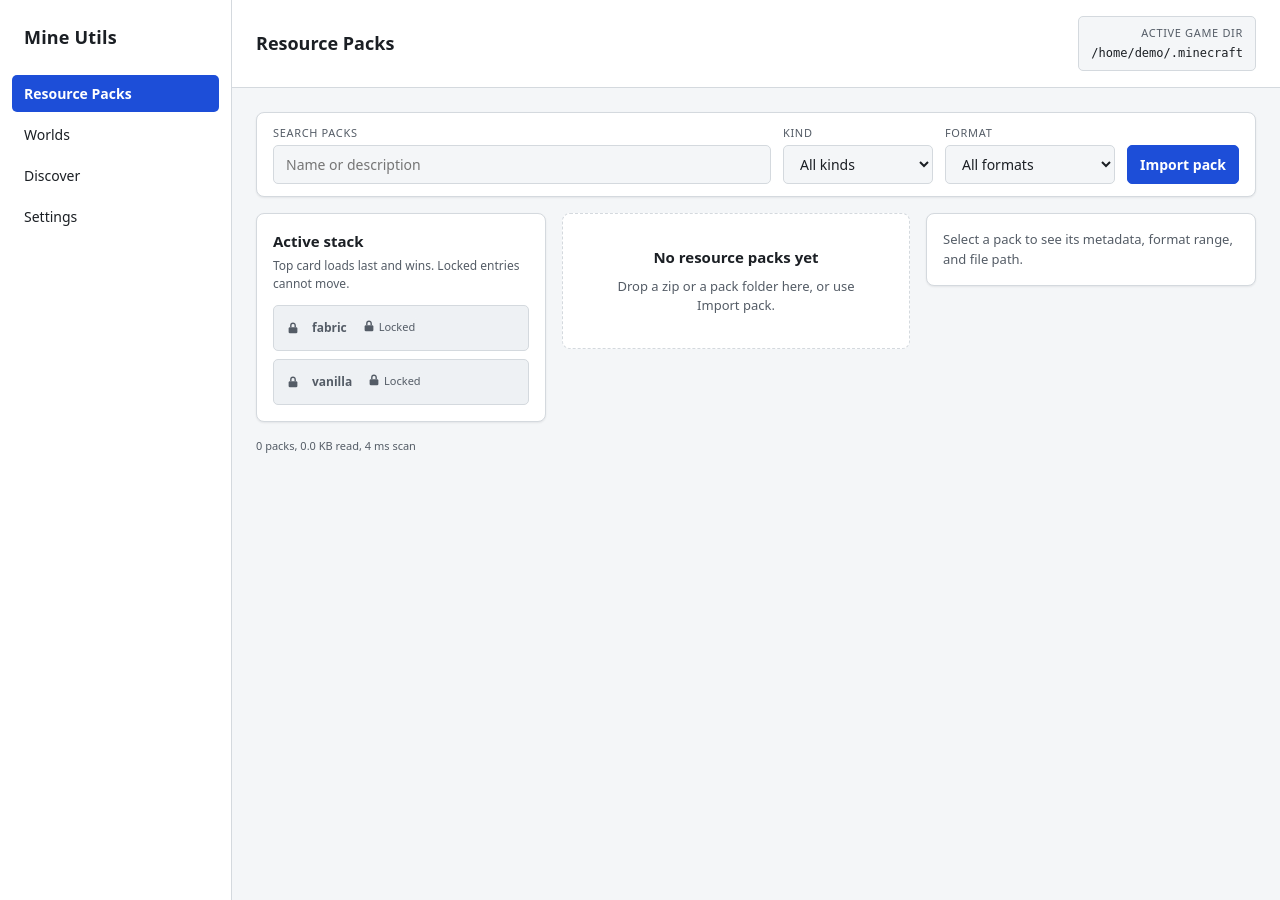
shows loading rather than an empty world list in the install sheet
The width and height of the screenshot is (1280, 900).
Step 1. Click the button "Discover" → click(116, 176), box x1=12 y1=157 x2=219 y2=194
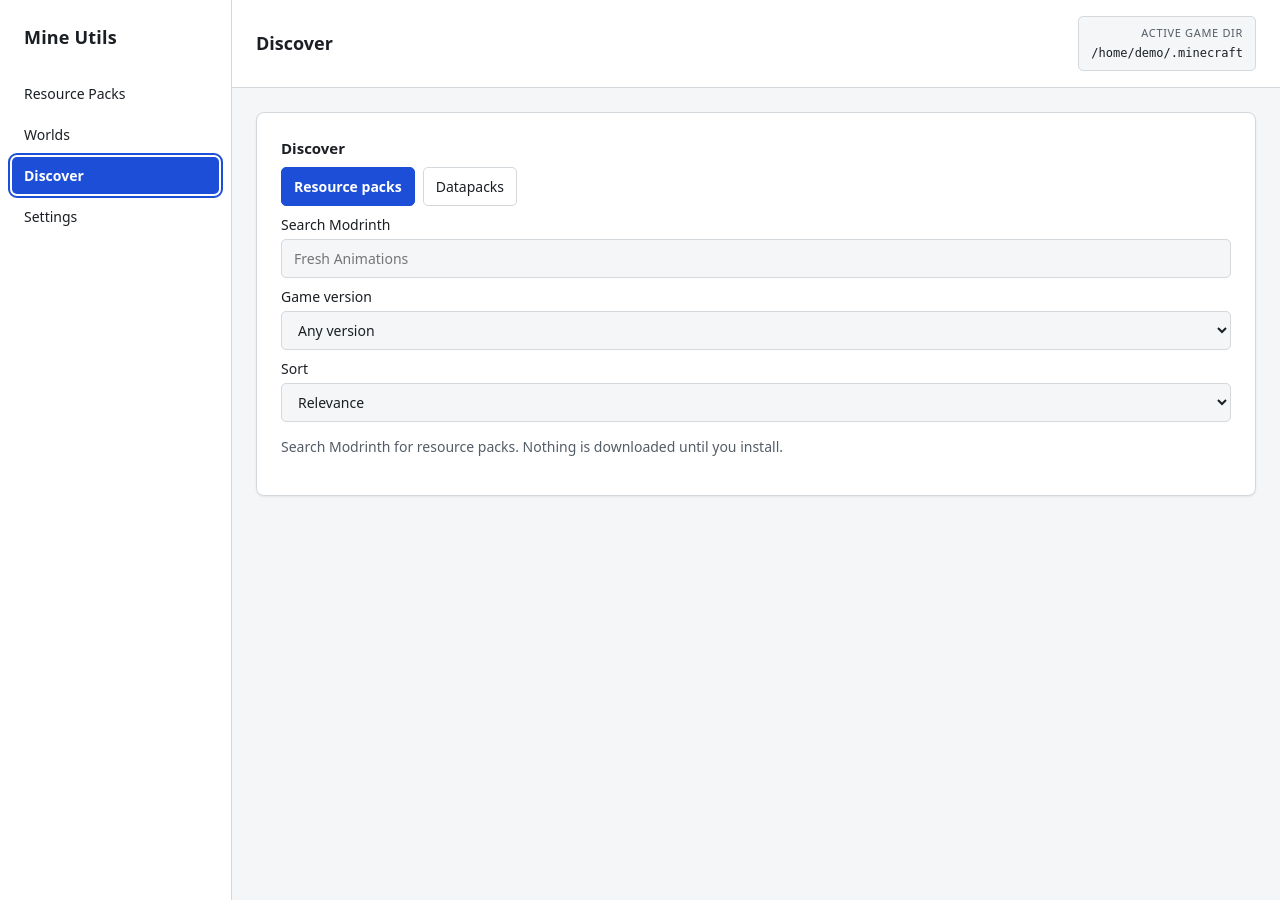
Step 2. Click the tab "Datapacks" → click(470, 186), box x1=423 y1=167 x2=517 y2=206
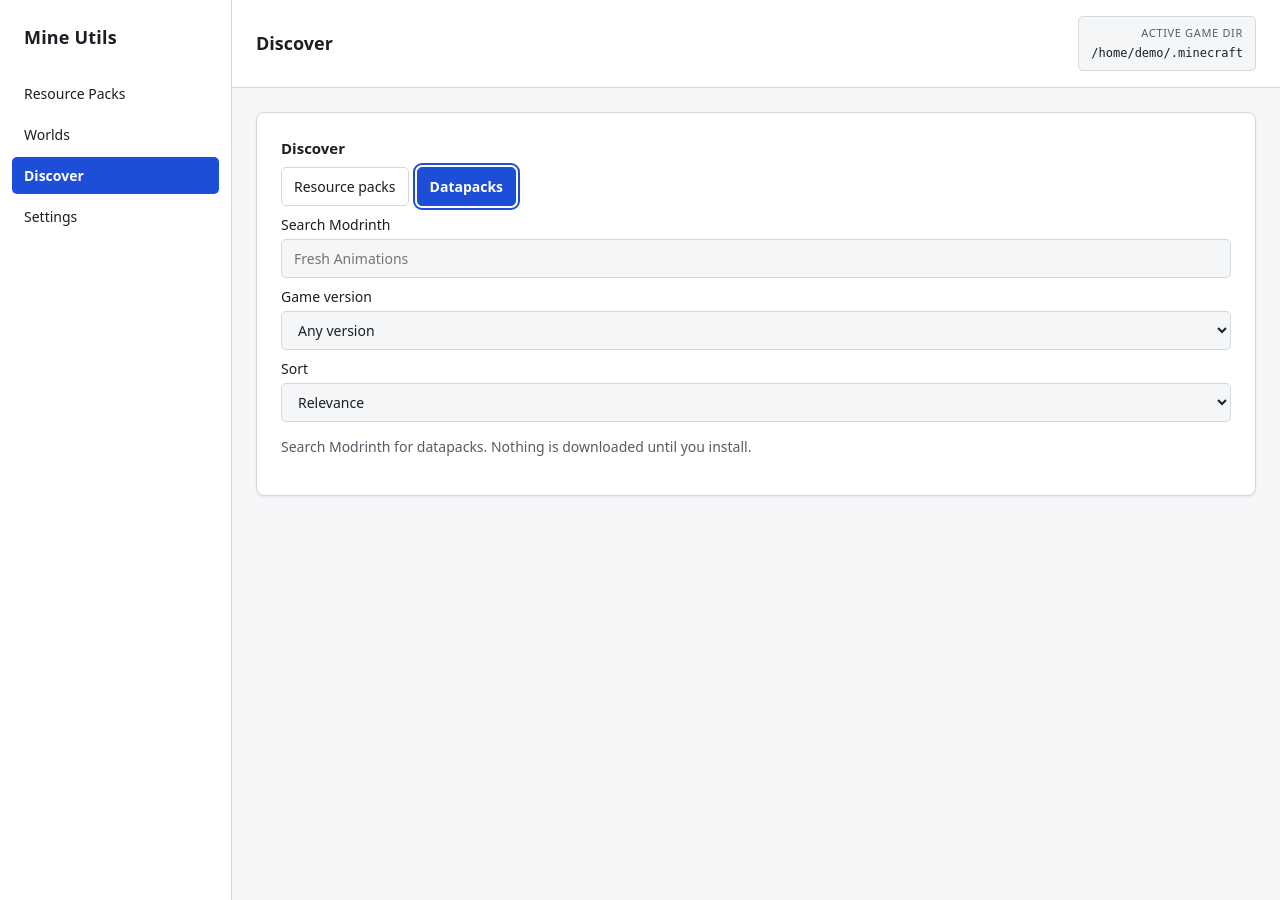
Step 3. Type "pure" into the search field labelled "Search Modrinth" → (756, 258), box x1=281 y1=239 x2=1231 y2=278
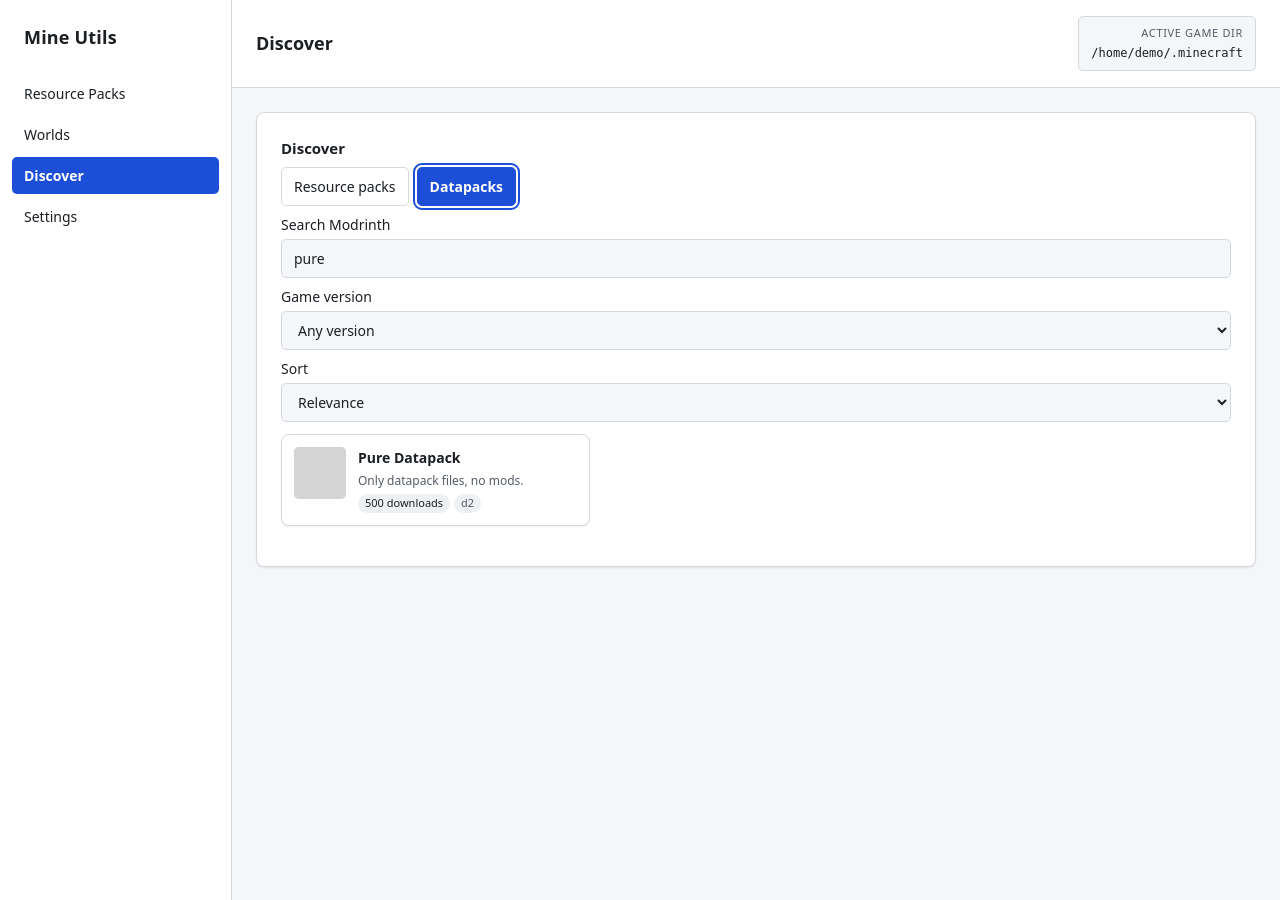
Step 4. Click the button with aria-label "Pure Datapack," → click(435, 480), box x1=281 y1=434 x2=590 y2=526
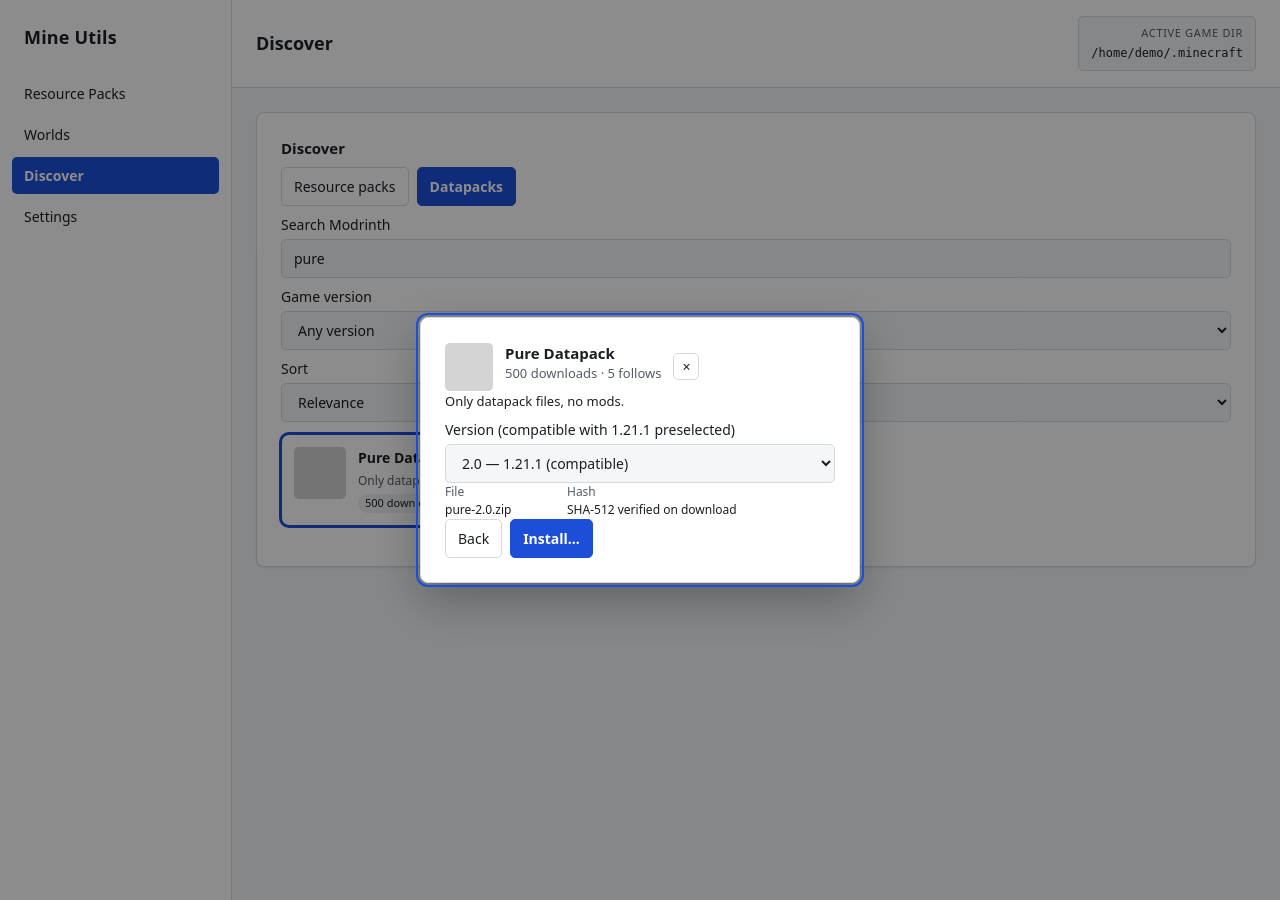
Step 5. Click the button "Install…" → click(552, 539), box x1=510 y1=519 x2=593 y2=558
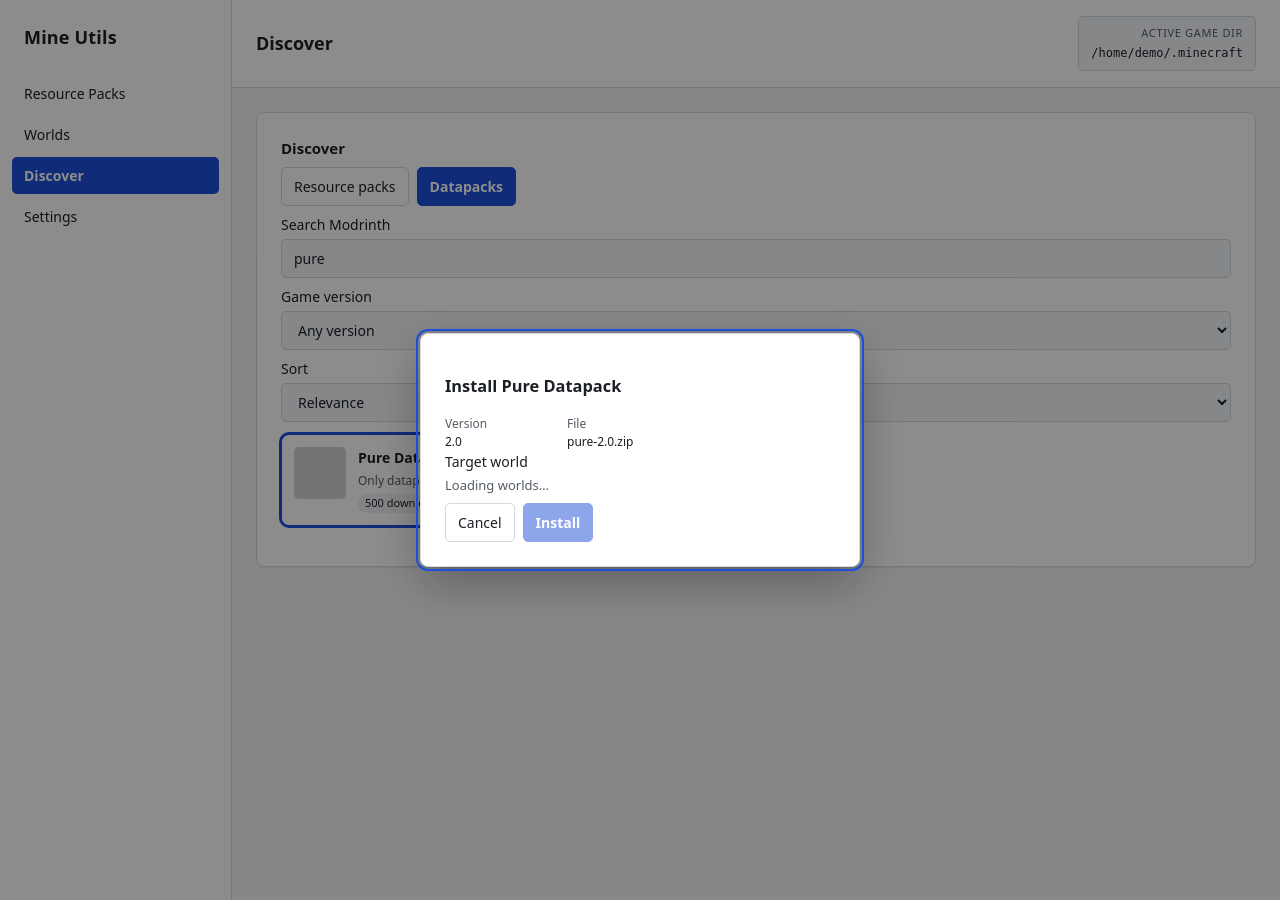
Expected: the dialog does not show "No worlds yet.", x1=420 y1=333 x2=860 y2=567
Expected: the dialog shows "Loading worlds…", x1=445 y1=476 x2=549 y2=494
Expected: the button "Install" is disabled, x1=523 y1=503 x2=593 y2=542
